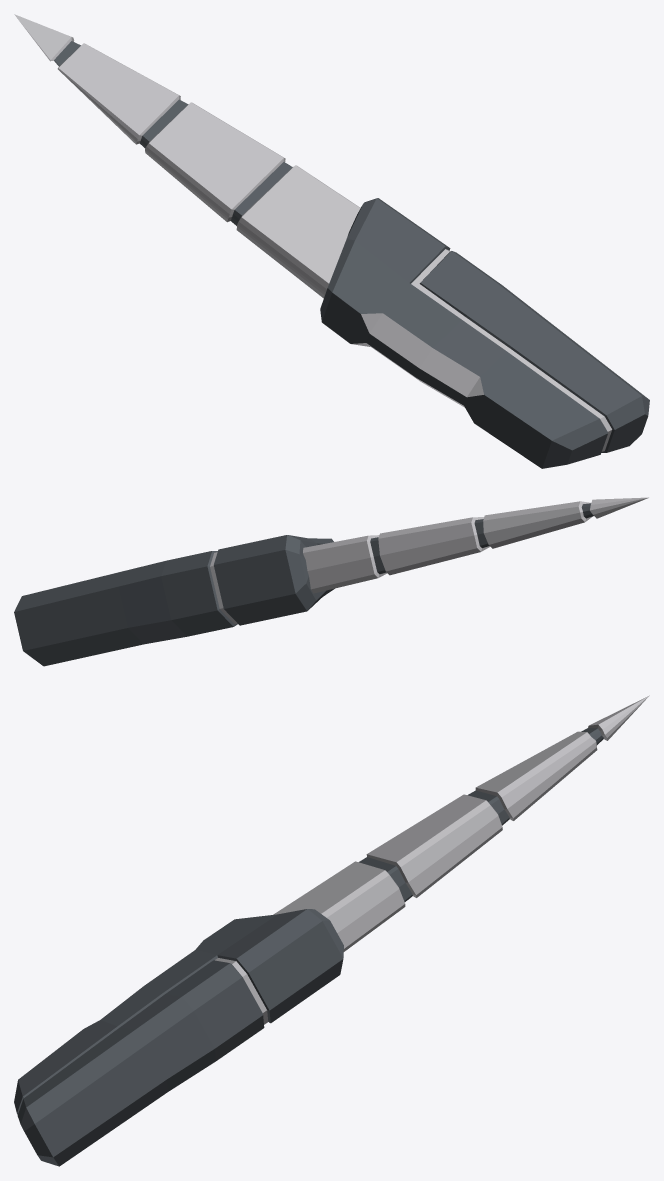
The model's file is Fighter_03_Right_Wing.fbx.
3 views of the same model, one above another, from view 1: azimuth 30°, elevation 25°; view 2: azimuth 210°, elevation 25°; view 3: azimuth 270°, elevation 25° (orthographic). The views are drawn at different scales.
Parts seen in each view (by area): view 1: Fighter_03_Right_Wing; view 2: Fighter_03_Right_Wing; view 3: Fighter_03_Right_Wing.
Part boxes in pixels (x1,y1,x2,y2): Fighter_03_Right_Wing: [14, 14, 649, 468]; Fighter_03_Right_Wing: [14, 497, 648, 666]; Fighter_03_Right_Wing: [14, 695, 649, 1166].
Size of the model in its own units: 590 by 501 by 932.
Materials: 1 (1 with a texture image).
